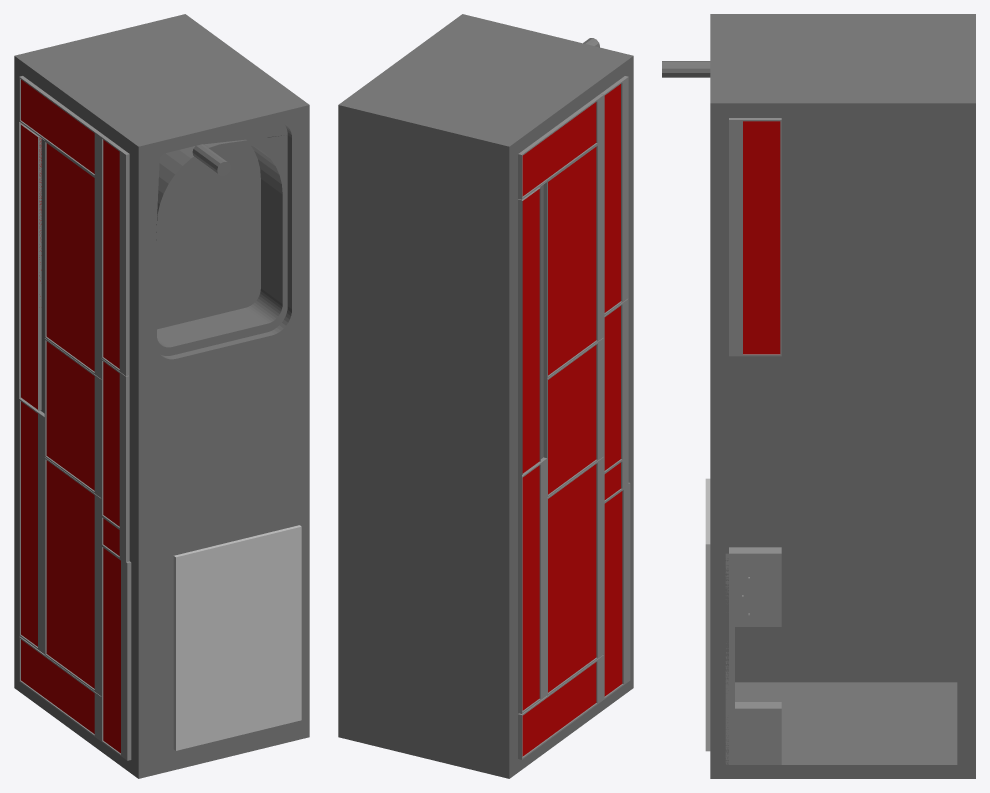
The picture shows the model from 3 angles, left to right: view 1: azimuth 30°, elevation 25°; view 2: azimuth 150°, elevation 25°; view 3: azimuth 270°, elevation 25°; orthographic projection. The views are drawn at different scales.
Parts seen in each view (by area): view 1: ROOT_link (×28); view 2: ROOT_link (×27); view 3: ROOT_link (×14).
Boxes of the visible parts, x1,y1,x2,y2 form: ROOT_link (×28): [14, 14, 309, 778]; ROOT_link (×27): [338, 14, 633, 778]; ROOT_link (×14): [662, 14, 975, 778].
Bounding box in the file's own units: 0.71 × 2.4 × 1.01.
